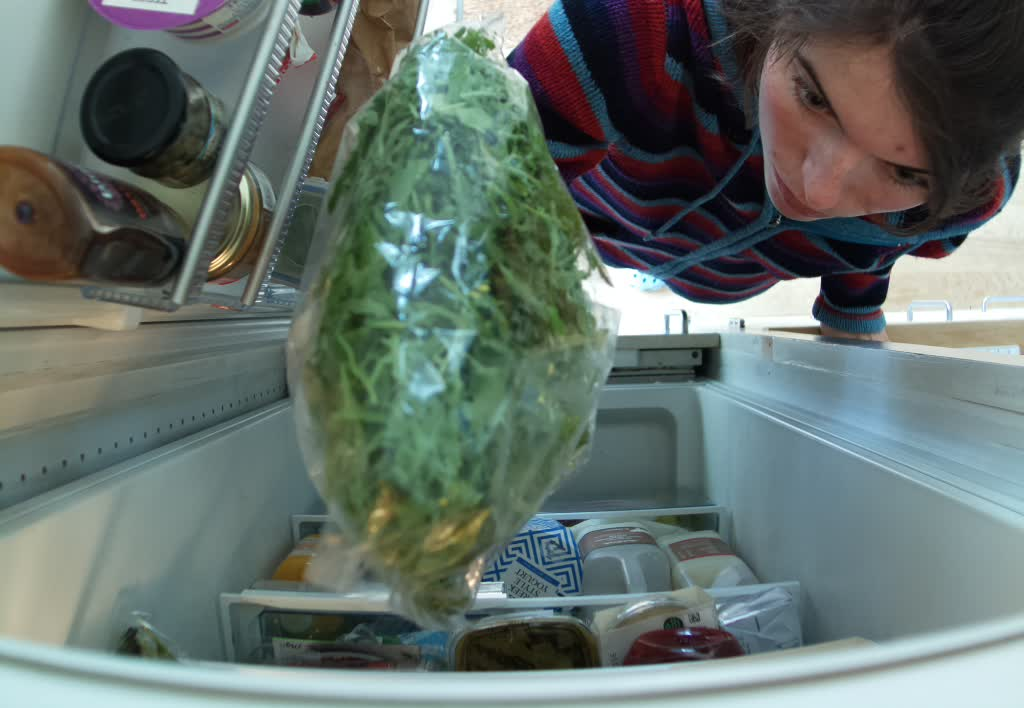salad: (287, 24, 622, 622)
